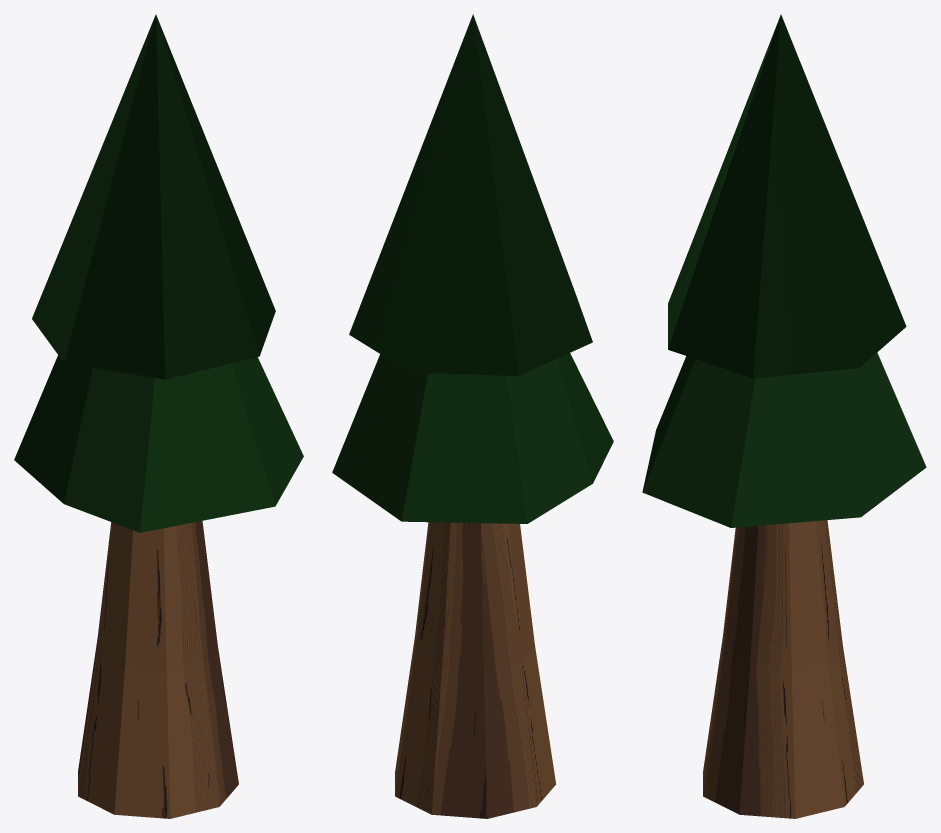
The model's file is Pino Mediano.fbx.
3 views of the same model, side by side, from view 1: azimuth 30°, elevation 25°; view 2: azimuth 150°, elevation 25°; view 3: azimuth 270°, elevation 25° (orthographic).
Parts seen in each view (by area): view 1: Pino Mediano; view 2: Pino Mediano; view 3: Pino Mediano.
Boxes of the visible parts, x1=… form: Pino Mediano: x1=14, y1=14, x2=303, y2=818; Pino Mediano: x1=332, y1=14, x2=613, y2=818; Pino Mediano: x1=642, y1=14, x2=926, y2=818.
Size of the model in its own units: 332 by 357 by 1066.
Materials: 2 (1 with a texture image).
